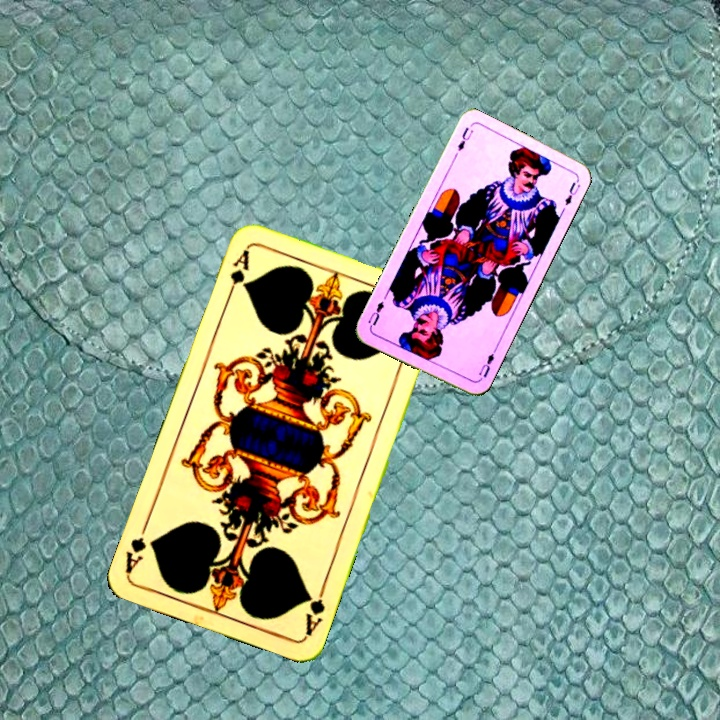EU: (474, 345, 499, 380), (454, 123, 476, 153)
GA: (223, 245, 252, 302), (301, 580, 329, 639)
